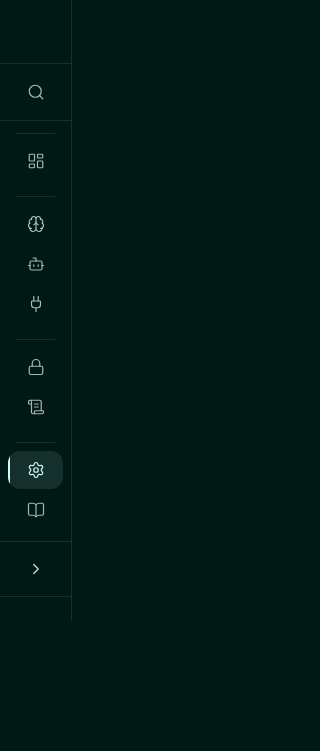
Test case: AppNav viewport sizing › closes the phone drawer after choosing a destination
Click the button named "Expand sidebar". click: (36, 569)
box: [8,550,63,588]
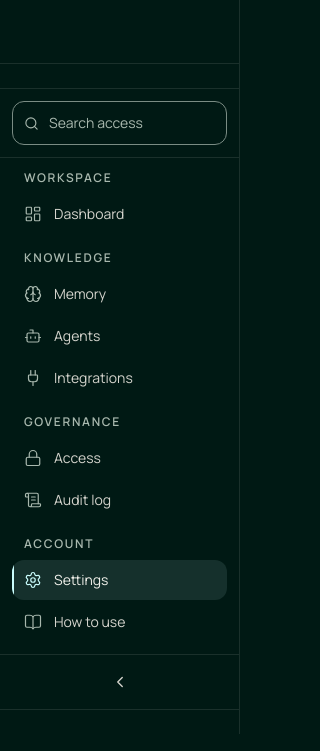
Click the link "Memory". click: (65, 294)
box: [24,284,106,303]
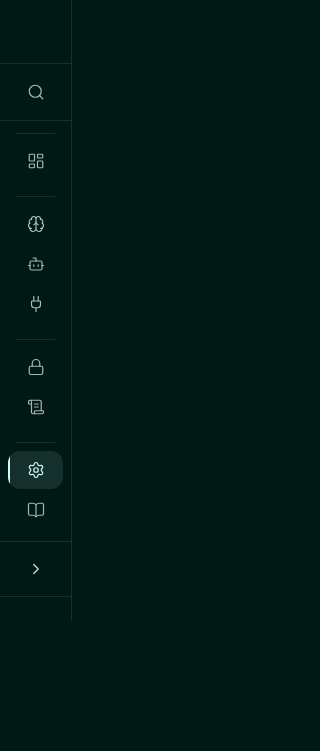
Check: the button named "Expand sidebar" is shown, box [8,550,63,588]
